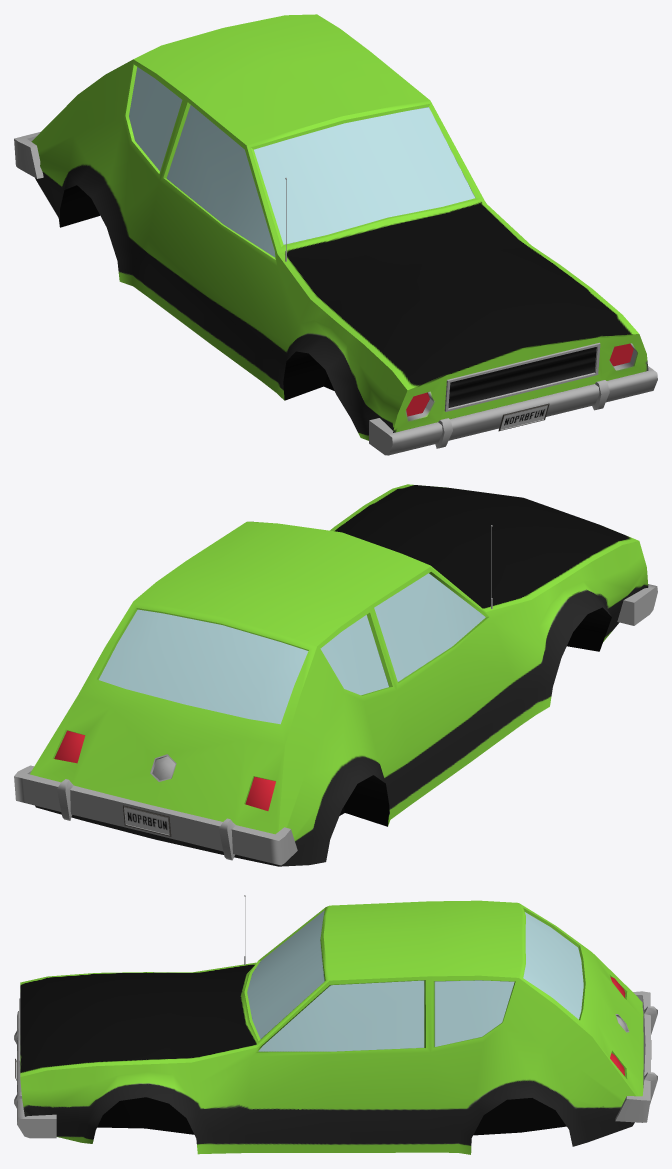
Rendered from GremlinWithPlates.fbx.
3 views of the same model, one above another, from view 1: azimuth 30°, elevation 25°; view 2: azimuth 150°, elevation 25°; view 3: azimuth 270°, elevation 25° (orthographic). The views are drawn at different scales.
Visible parts, largest first — view 1: body1, pPlane3, pPlane4; view 2: body1, pPlane4, pPlane3; view 3: body1, pPlane4, pPlane3.
Part boxes in pixels (x1=…): body1: x1=31, y1=14, x2=648, y2=440; pPlane3: x1=369, y1=366, x2=657, y2=455; pPlane4: x1=14, y1=132, x2=43, y2=178; body1: x1=30, y1=484, x2=648, y2=866; pPlane4: x1=14, y1=765, x2=297, y2=865; pPlane3: x1=617, y1=584, x2=657, y2=625; body1: x1=19, y1=895, x2=643, y2=1154; pPlane4: x1=615, y1=991, x2=657, y2=1122; pPlane3: x1=14, y1=1011, x2=56, y2=1138.
Size of the model in its own units: 1.75 by 1.2 by 4.14.
